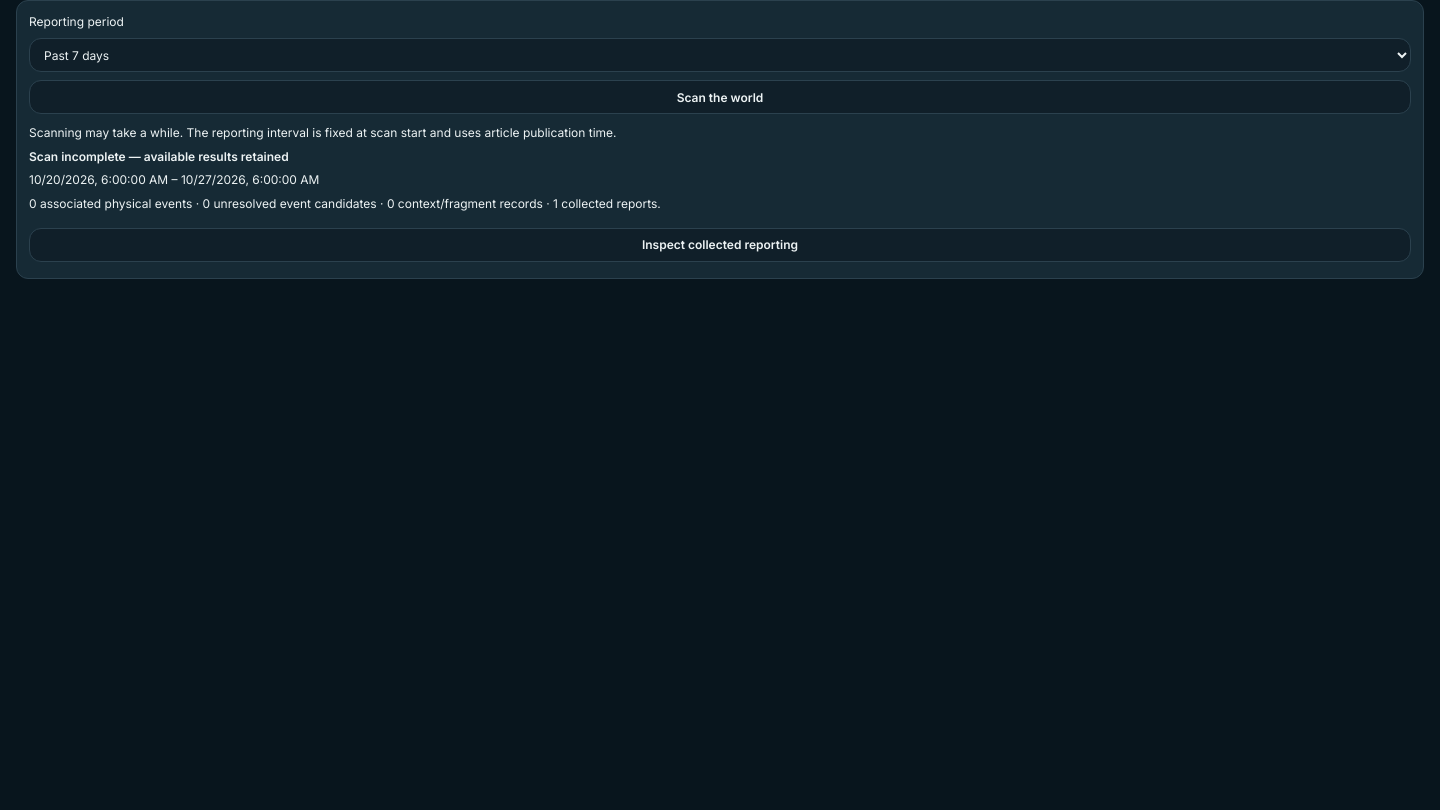
Test: continues the report catalog without losing earlier rows
Later steps or results of the test are not shown.
What coordinates should you click on to do the following:
click the button "Inspect collected reporting"
I would click on:
 (720, 245)
Its box is [29,228,1411,262].
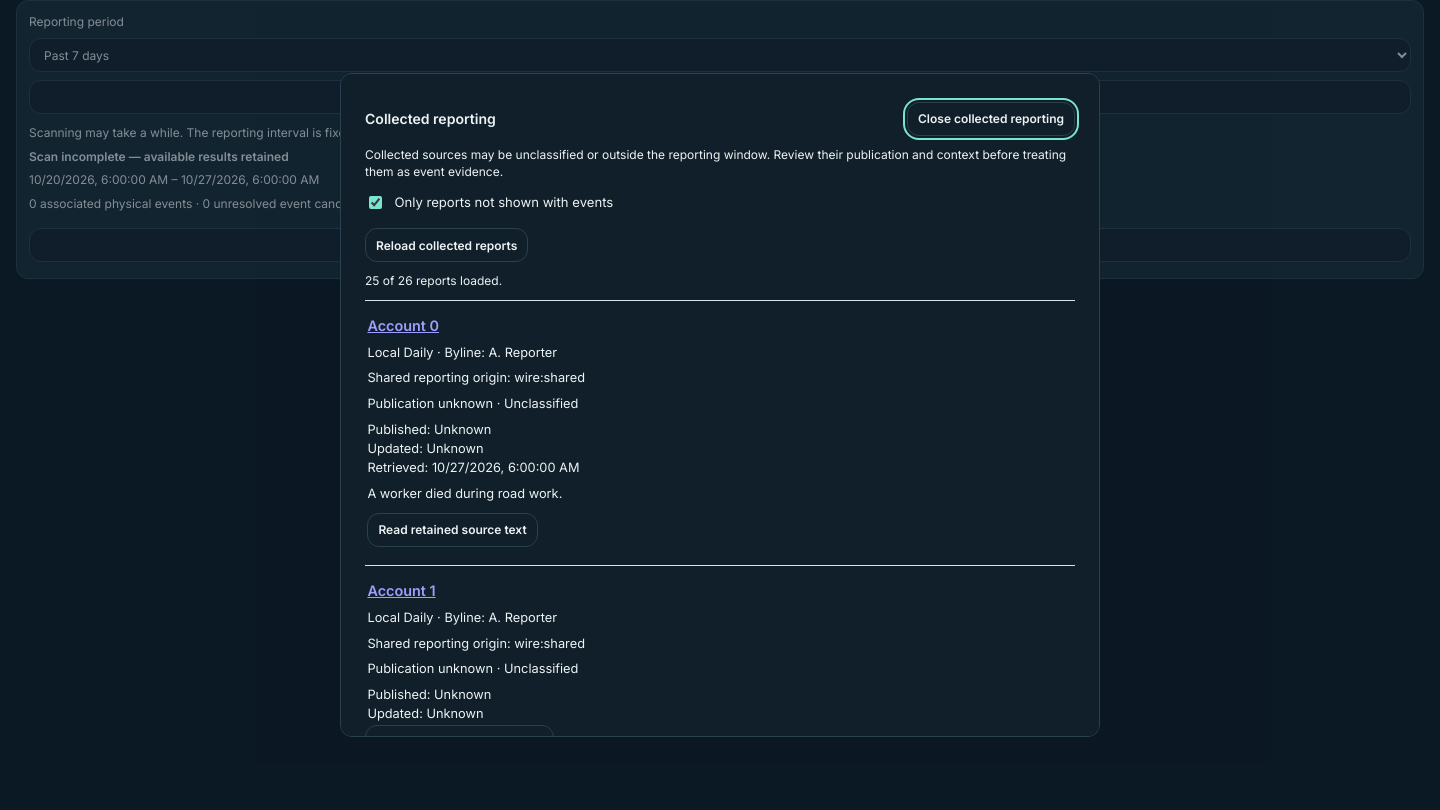
Expected: the element "Account 0" is shown, [365,300,1075,566]
